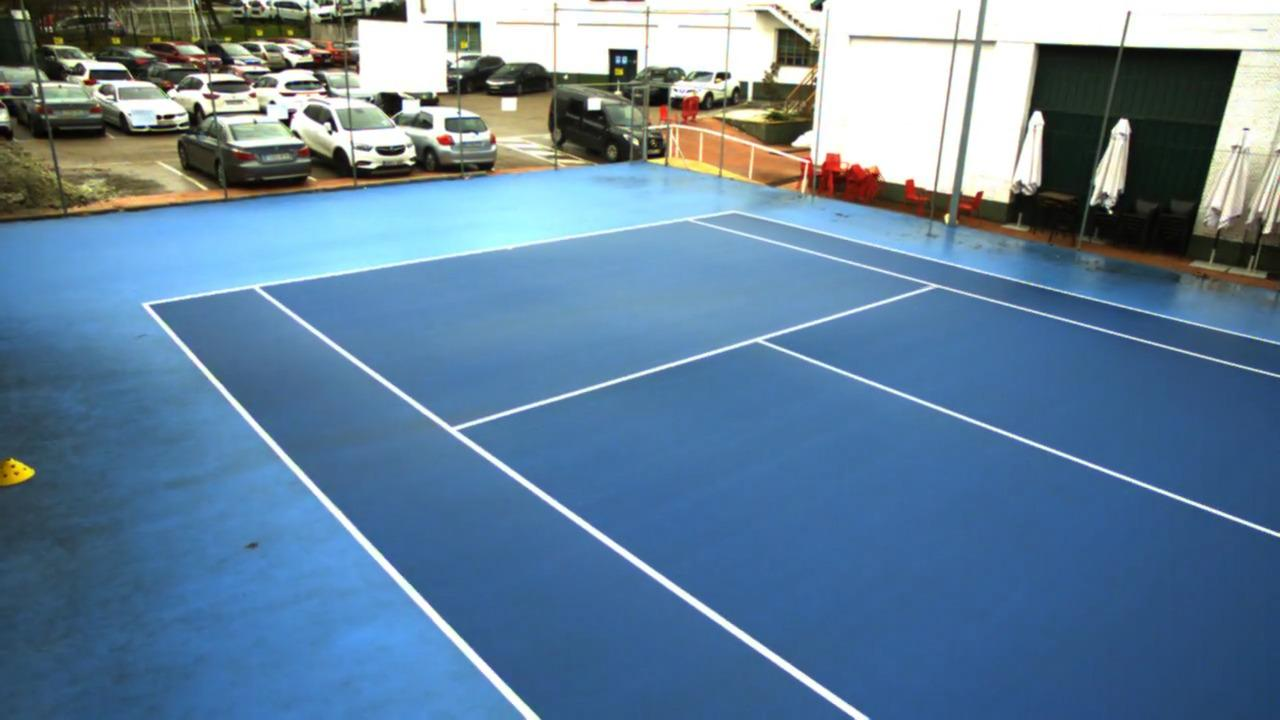cancha_tenis: (254, 216, 1280, 719)
point_f1: (244, 276, 272, 300)
point_f2: (680, 209, 712, 231)
point_fc1: (502, 239, 519, 256)
point_i1: (437, 414, 469, 443)
point_i2: (918, 275, 945, 296)
point_ic1: (745, 330, 778, 353)
